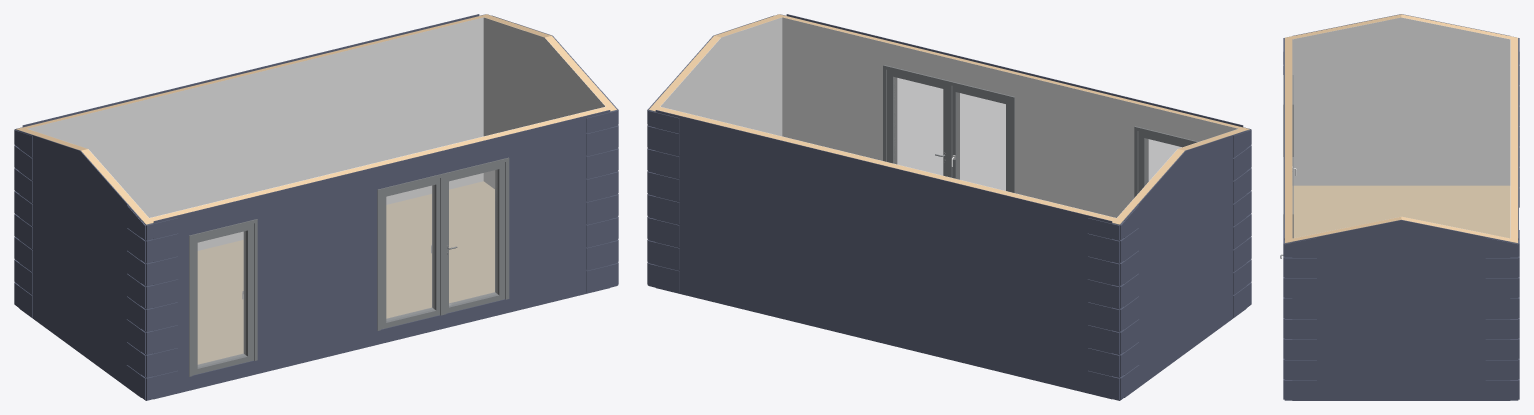
File: gediminas.babelis@gmail.fbx
3 renders of one model, left to right at view 1: azimuth 30°, elevation 25°; view 2: azimuth 150°, elevation 25°; view 3: azimuth 270°, elevation 25°, orthographic. The views are drawn at different scales.
Parts seen in each view (by area): view 1: IfcWall/Part:2345365, IfcSlab/Part:3131526, IfcPlate/System Panel:Sandwich užbaigimas Multisplit:3170258, IfcPlate/System Panel:Sandwich užbaigimas Multisplit:3170256, IfcWindow/Langai (Akrusta):1000x2100x120 (dešininis):3169071, IfcDoor/Durys išorinės:1000x2100x120 (dešininės):2523263, IfcWindow/Langai (Akrusta):1000x2100x120 (dešininis):3169286, IfcBuildingElementProxy/Kampai Kvadratiniai - line based:Mu. (×2), IfcWall/Part:2345359, IfcPlate/System Panel:Sandwich užbaigimas Multisplit:3170249, IfcPlate/System Panel:Sandwich užbaigimas Multisplit:3170297, IfcPlate/System Panel:Sandwich užbaigimas Multisplit:3170252 (+11 smaller); view 2: IfcWall/Part:2345356, IfcBuildingElementProxy/Kampai Kvadratiniai - line based:Mu. (×3), IfcPlate/System Panel:Sandwich užbaigimas Multisplit:3170290, IfcPlate/System Panel:Sandwich užbaigimas Multisplit:3170284, IfcPlate/System Panel:Sandwich užbaigimas Multisplit:3170282, IfcPlate/System Panel:Sandwich užbaigimas Multisplit:3170286, IfcPlate/System Panel:Sandwich užbaigimas Multisplit:3170288, IfcWall/Part:2345359, IfcPlate/System Panel:Sandwich užbaigimas Multisplit:3170279, IfcPlate/System Panel:Sandwich užbaigimas Multisplit:3170297, IfcDoor/Durys išorinės:1000x2100x120 (dešininės):2523263, IfcWindow/Langai (Akrusta):1000x2100x120 (dešininis):3169286 (+9 smaller); view 3: IfcWall/Part:2345362, IfcPlate/System Panel:Sandwich užbaigimas Multisplit:3170272, IfcBuildingElementProxy/Kampai Kvadratiniai - line based:Mu. (×4), IfcSlab/Part:3131526, IfcPlate/System Panel:Sandwich užbaigimas Multisplit:3170269, IfcPlate/System Panel:Sandwich užbaigimas Multisplit:3170274, IfcWall/Part:2345367, IfcWall/Part:2345358, IfcWall/Part:2345364, IfcWall/Part:2345361, IfcWindow/Langai (Akrusta):1000x2100x120 (dešininis):3169071.
Boxes of the visible parts, x1,y1,x2,y2 form: IfcWall/Part:2345365: (27, 17, 483, 250); IfcSlab/Part:3131526: (197, 181, 494, 364); IfcPlate/System Panel:Sandwich užbaigimas Multisplit:3170258: (255, 179, 326, 374); IfcPlate/System Panel:Sandwich užbaigimas Multisplit:3170256: (326, 162, 397, 357); IfcWindow/Langai (Akrusta):1000x2100x120 (dešininis):3169071: (189, 219, 257, 376); IfcDoor/Durys išorinės:1000x2100x120 (dešininės):2523263: (440, 157, 509, 315); IfcWindow/Langai (Akrusta):1000x2100x120 (dešininis):3169286: (377, 173, 446, 330); IfcBuildingElementProxy/Kampai Kvadratiniai - line based:Mu. (×2): (14, 110, 618, 317); IfcWall/Part:2345359: (483, 17, 605, 188); IfcPlate/System Panel:Sandwich užbaigimas Multisplit:3170249: (539, 110, 610, 305); IfcPlate/System Panel:Sandwich užbaigimas Multisplit:3170297: (59, 144, 100, 367); IfcPlate/System Panel:Sandwich užbaigimas Multisplit:3170252: (468, 127, 539, 322); IfcWall/Part:2345356: (782, 17, 1237, 217); IfcBuildingElementProxy/Kampai Kvadratiniai - line based:Mu. (×3): (647, 110, 1139, 400); IfcPlate/System Panel:Sandwich užbaigimas Multisplit:3170290: (686, 117, 756, 312); IfcPlate/System Panel:Sandwich užbaigimas Multisplit:3170284: (899, 169, 969, 364); IfcPlate/System Panel:Sandwich užbaigimas Multisplit:3170282: (970, 186, 1040, 381); IfcPlate/System Panel:Sandwich užbaigimas Multisplit:3170286: (828, 152, 898, 347); IfcPlate/System Panel:Sandwich užbaigimas Multisplit:3170288: (757, 134, 827, 329); IfcWall/Part:2345359: (660, 17, 782, 136); IfcPlate/System Panel:Sandwich užbaigimas Multisplit:3170279: (1041, 204, 1112, 399); IfcPlate/System Panel:Sandwich užbaigimas Multisplit:3170297: (1164, 144, 1205, 368); IfcDoor/Durys išorinės:1000x2100x120 (dešininės):2523263: (883, 65, 952, 177); IfcWindow/Langai (Akrusta):1000x2100x120 (dešininis):3169286: (946, 80, 1014, 192); IfcWall/Part:2345362: (1292, 17, 1510, 185); IfcPlate/System Panel:Sandwich užbaigimas Multisplit:3170272: (1364, 220, 1436, 400); IfcBuildingElementProxy/Kampai Kvadratiniai - line based:Mu. (×4): (1283, 230, 1519, 400); IfcSlab/Part:3131526: (1292, 185, 1510, 238); IfcPlate/System Panel:Sandwich užbaigimas Multisplit:3170269: (1437, 227, 1510, 400); IfcPlate/System Panel:Sandwich užbaigimas Multisplit:3170274: (1292, 227, 1363, 400); IfcWall/Part:2345367: (1510, 36, 1517, 242); IfcWall/Part:2345358: (1285, 39, 1292, 242); IfcWall/Part:2345364: (1285, 14, 1510, 40); IfcWall/Part:2345361: (1292, 216, 1510, 241); IfcWindow/Langai (Akrusta):1000x2100x120 (dešininis):3169071: (1283, 75, 1293, 156).
Size of the model in its own units: 754 by 308 by 369.
